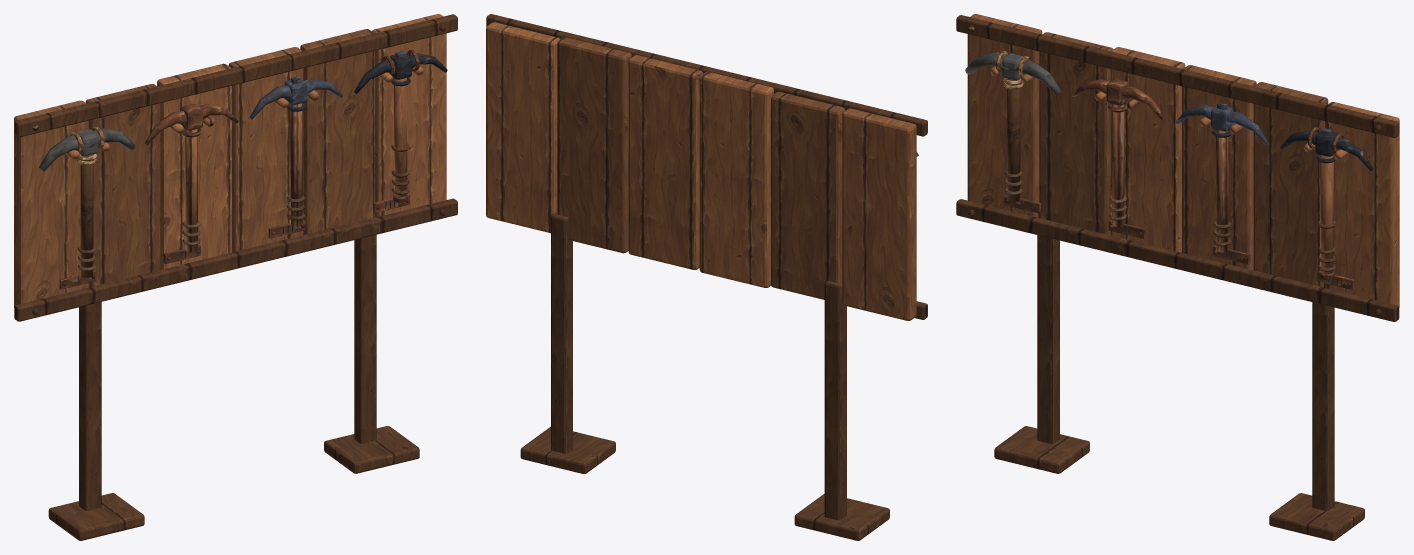
Rendered from hm_pickaxe_progression.glb.
3 renders of one model, left to right at view 1: azimuth 30°, elevation 25°; view 2: azimuth 150°, elevation 25°; view 3: azimuth 330°, elevation 25°, orthographic.
Parts seen in each view (by area): view 1: model; view 2: model; view 3: model.
Part boxes in pixels (x1,y1,x2,y2): model: (14,14,457,540); model: (486,14,927,540); model: (956,14,1399,540).
Bounding box in the file's own units: 1.6 × 1.47 × 0.2.
Materials: 12 (11 with a texture image).
